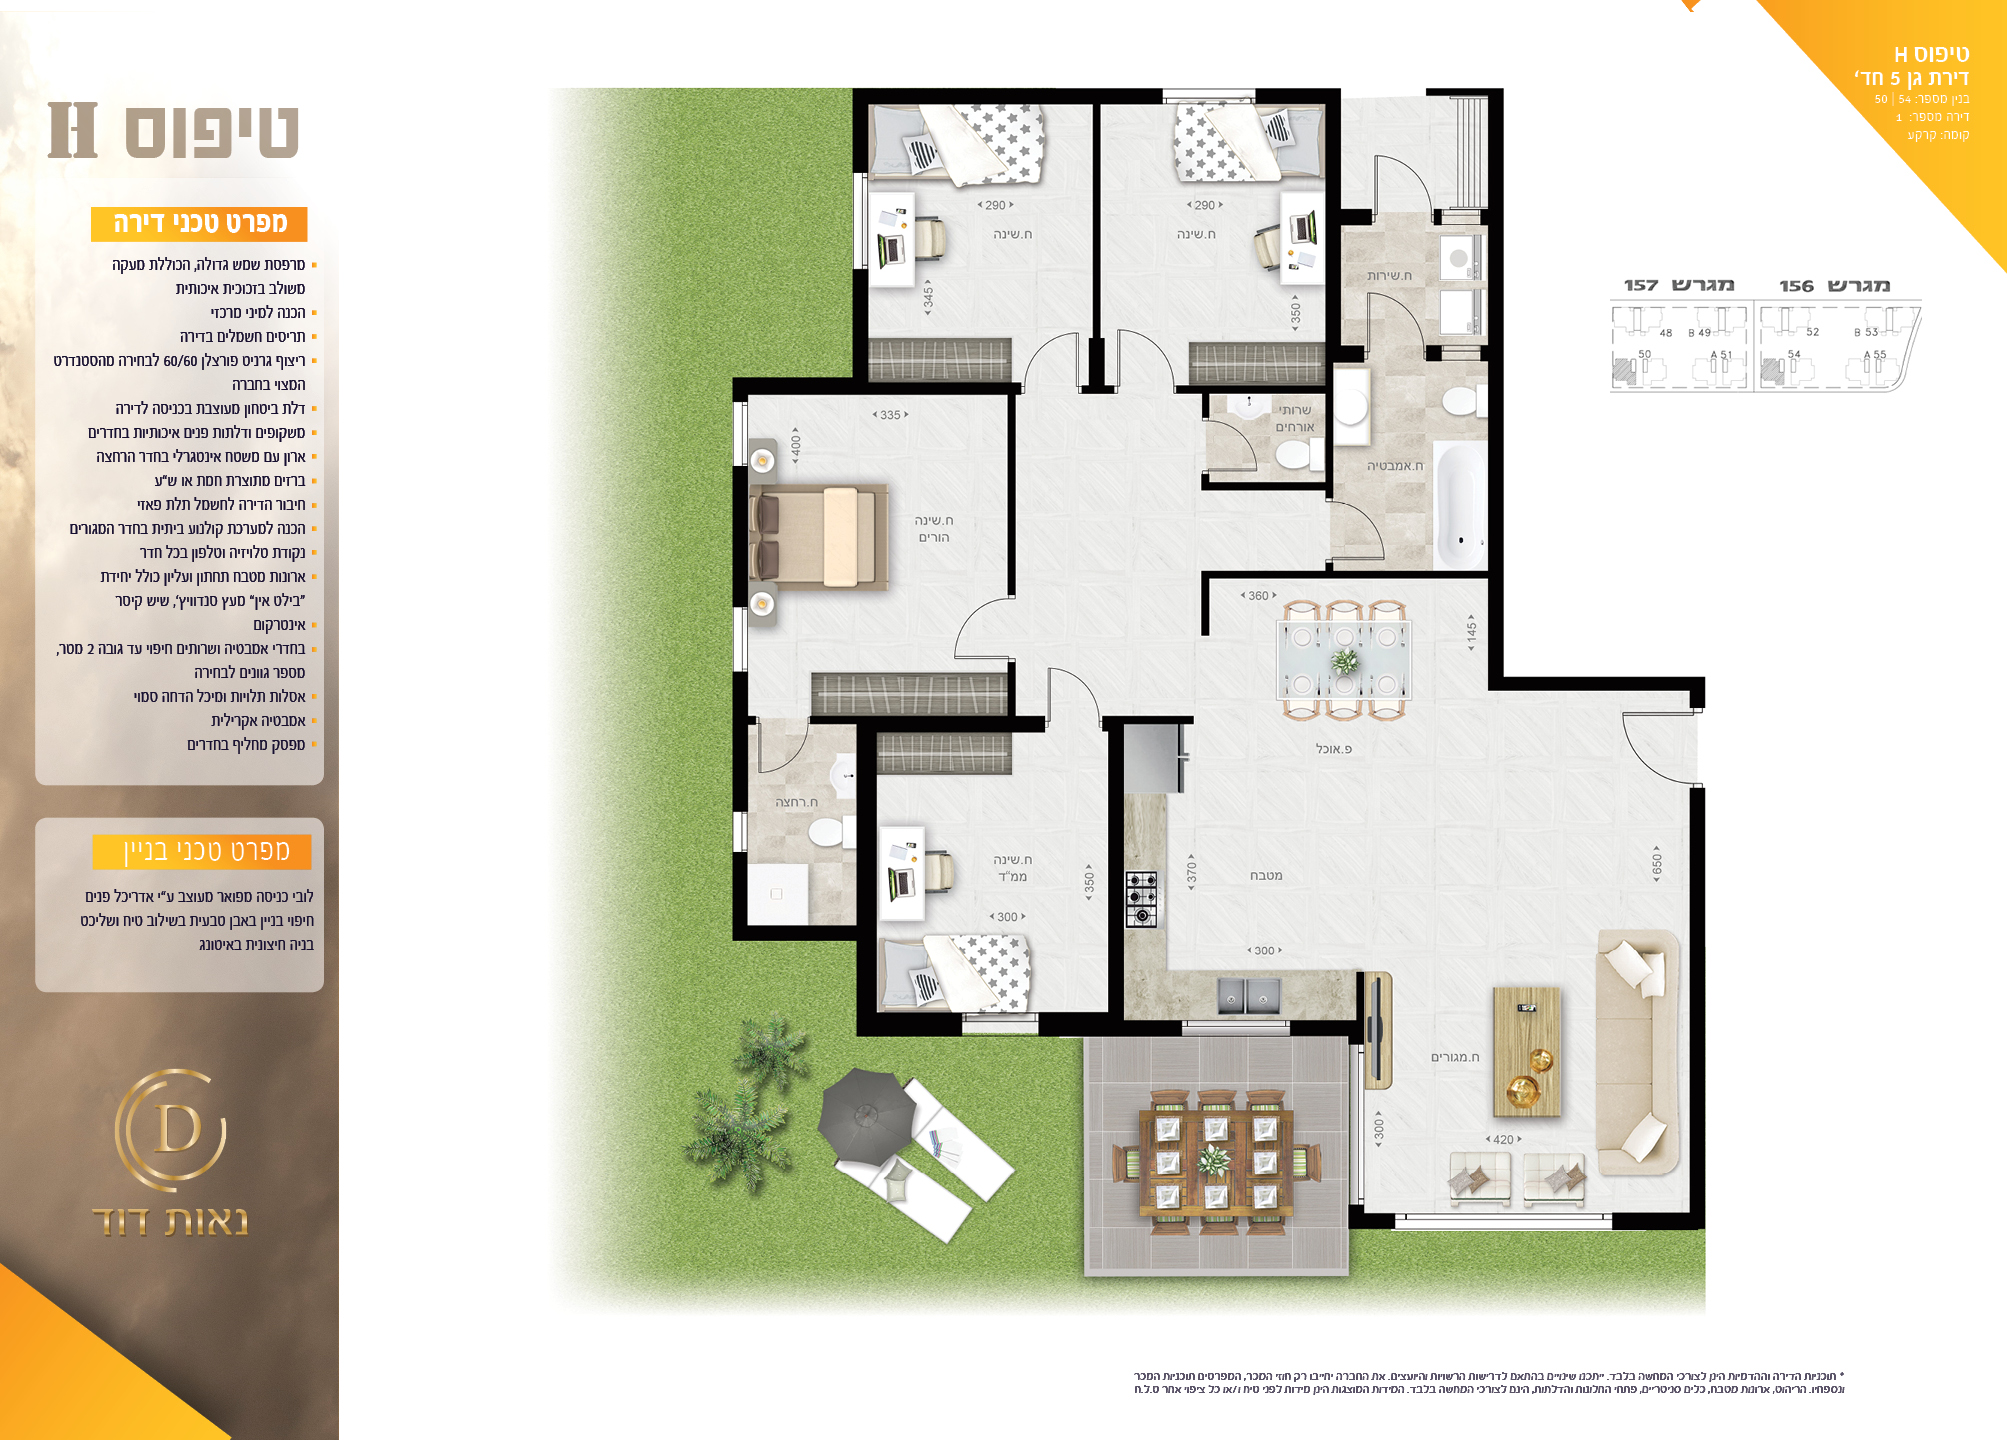door: (1613, 704, 1683, 793), (936, 581, 1003, 665), (1032, 647, 1106, 714), (1359, 284, 1430, 343), (1363, 143, 1438, 199), (1342, 489, 1398, 564), (1109, 319, 1180, 376), (1018, 323, 1085, 379), (751, 732, 824, 779), (1231, 421, 1268, 478)
wall: (1490, 92, 1504, 690), (1490, 679, 1706, 711), (857, 715, 877, 1036), (732, 380, 1021, 402), (1108, 717, 1123, 1036), (1324, 90, 1342, 363), (1092, 101, 1108, 396), (851, 87, 1161, 101), (1201, 570, 1490, 581), (876, 715, 1046, 731), (860, 1015, 963, 1036), (734, 926, 873, 941), (732, 469, 746, 606), (732, 672, 746, 809), (851, 268, 866, 390), (1039, 1011, 1109, 1038), (1007, 386, 1014, 595), (1200, 570, 1222, 641), (852, 87, 869, 175), (1257, 87, 1345, 104), (1176, 385, 1328, 394), (1326, 362, 1335, 496), (732, 852, 746, 940), (1201, 483, 1328, 492), (1427, 87, 1504, 100), (1324, 344, 1367, 365), (1109, 714, 1194, 723), (1007, 662, 1016, 725), (810, 715, 855, 726)
window: (1395, 1216, 1610, 1230), (1349, 1046, 1365, 1205), (1184, 1019, 1290, 1036), (963, 1013, 1038, 1036), (852, 175, 869, 271), (1162, 86, 1256, 101), (732, 401, 750, 466), (735, 606, 748, 670), (732, 810, 750, 851)
